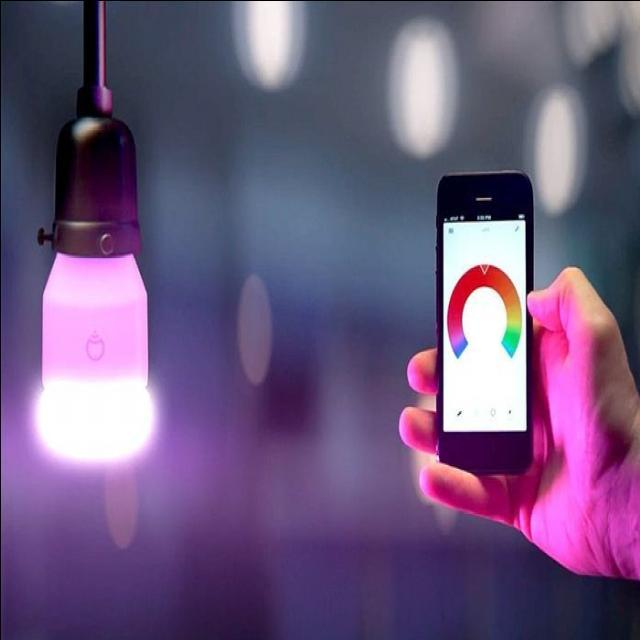light_bulb: (19, 82, 173, 474)
